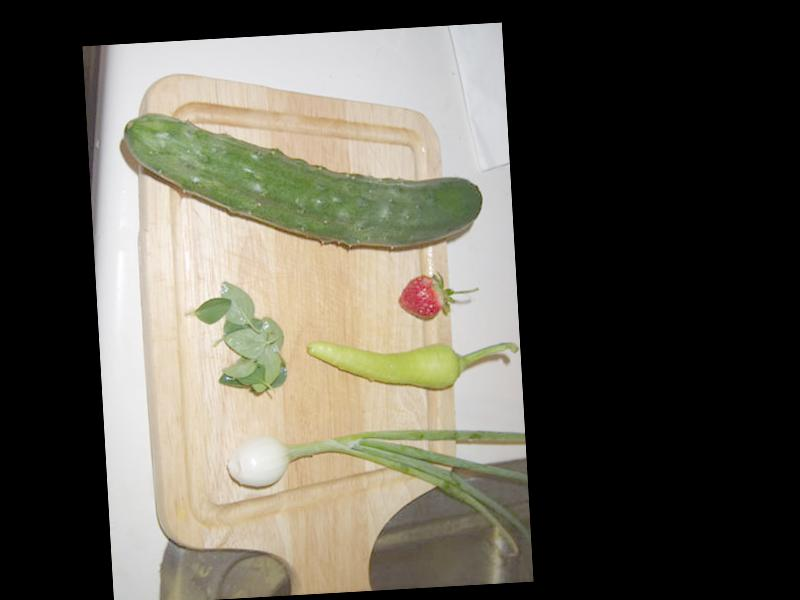Cucumber: (123, 95, 483, 263)
